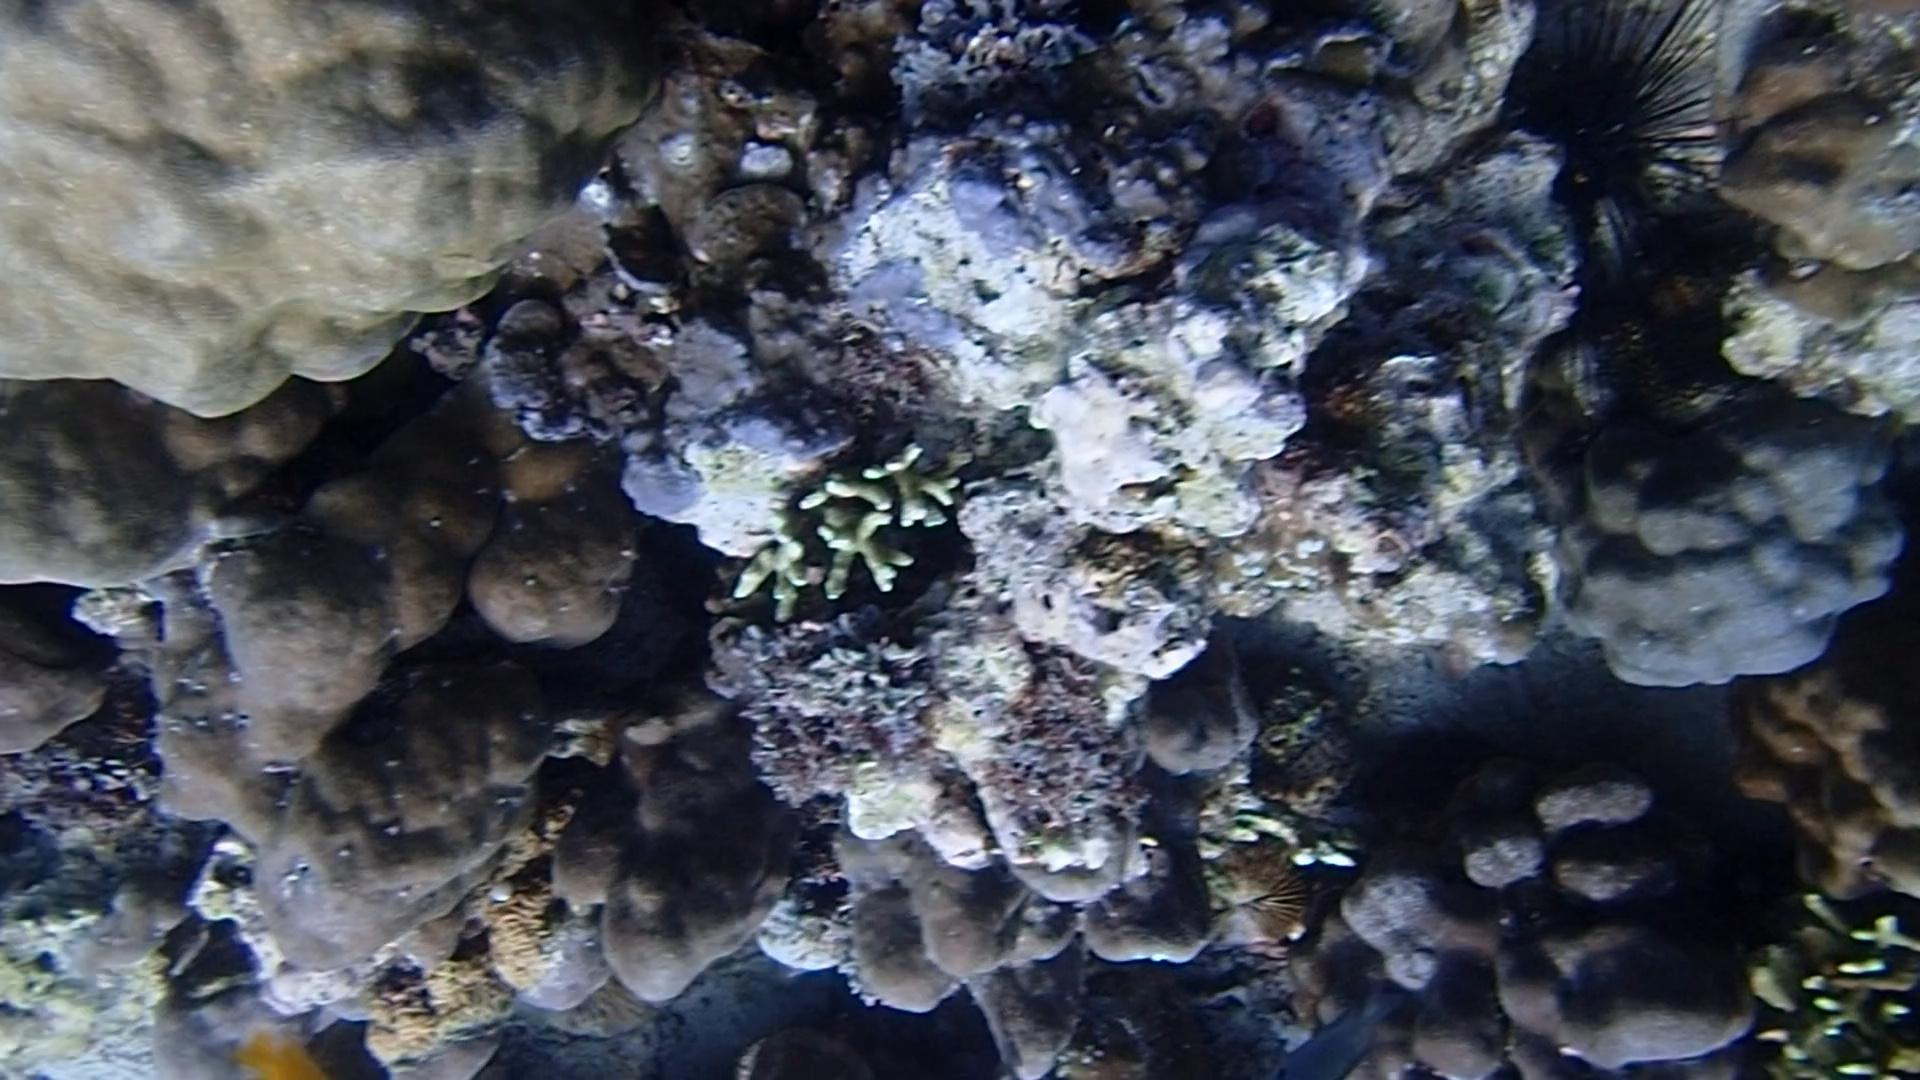Blue Fish Two: (1267, 980, 1411, 1080)
Yellow Fish: (231, 1013, 345, 1080)
